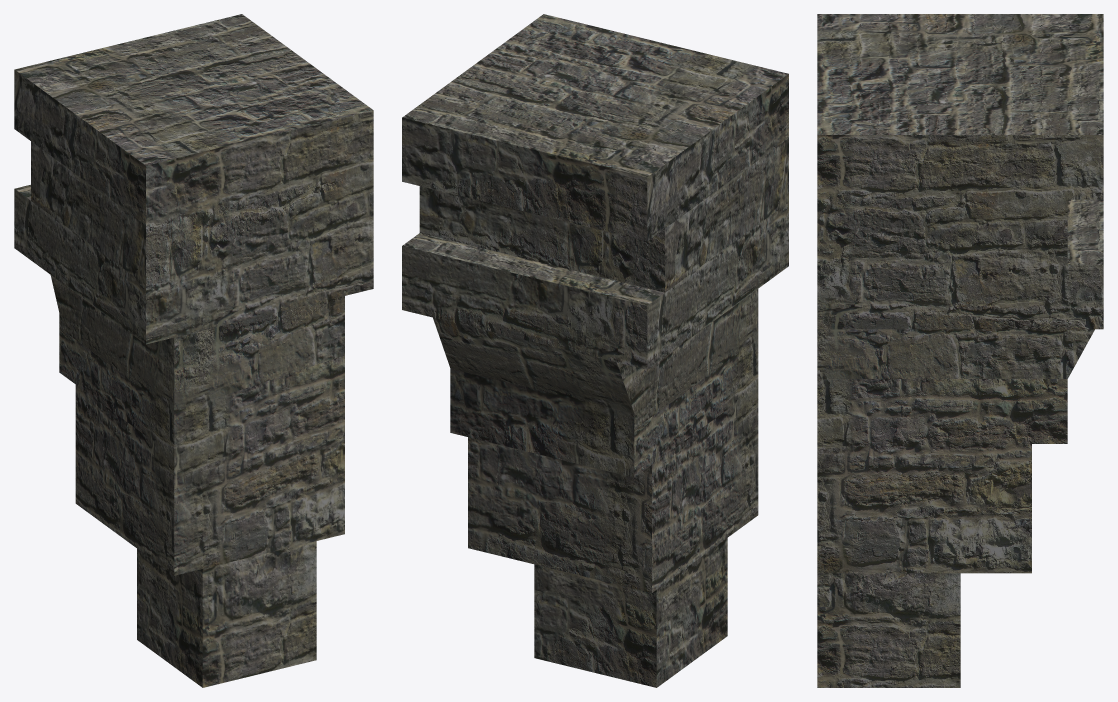
Rendered from SM_TowerTop_04.FBX.
3 views of the same model, side by side, from view 1: azimuth 30°, elevation 25°; view 2: azimuth 150°, elevation 25°; view 3: azimuth 270°, elevation 25° (orthographic). The views are drawn at different scales.
Visible parts, largest first — view 1: SM_TowerTop_04; view 2: SM_TowerTop_04; view 3: SM_TowerTop_04.
Part boxes in pixels (x1,y1,x2,y2): SM_TowerTop_04: (14, 14, 373, 687); SM_TowerTop_04: (402, 14, 788, 687); SM_TowerTop_04: (817, 14, 1103, 687).
Size of what is drawn, in the model's own units: 128 by 128 by 288.
